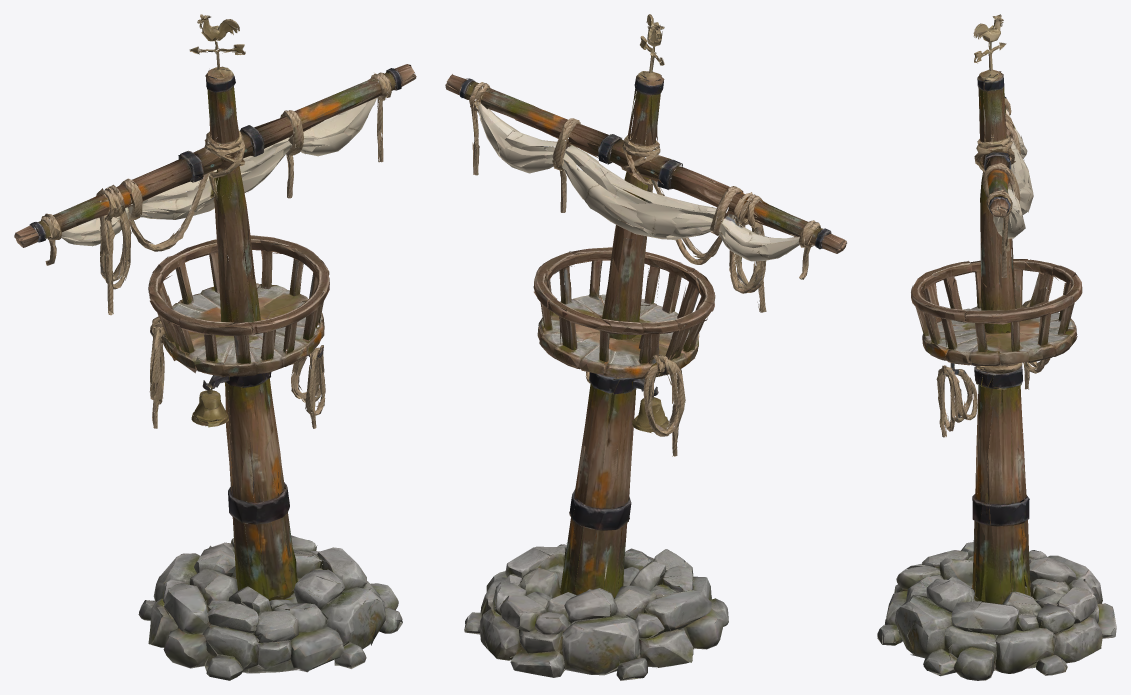
File: ship_mast.glb
3 renders of one model, left to right at view 1: azimuth 30°, elevation 25°; view 2: azimuth 150°, elevation 25°; view 3: azimuth 270°, elevation 25°, orthographic. The views are drawn at different scales.
Parts seen in each view (by area): view 1: Mesh_0; view 2: Mesh_0; view 3: Mesh_0.
Boxes of the visible parts, x1=… form: Mesh_0: x1=14, y1=14, x2=416, y2=680; Mesh_0: x1=445, y1=14, x2=847, y2=680; Mesh_0: x1=877, y1=14, x2=1116, y2=680.
Bounding box in the file's own units: 9.97 × 14.98 × 5.55.
Materials: 1 (1 with a texture image).
